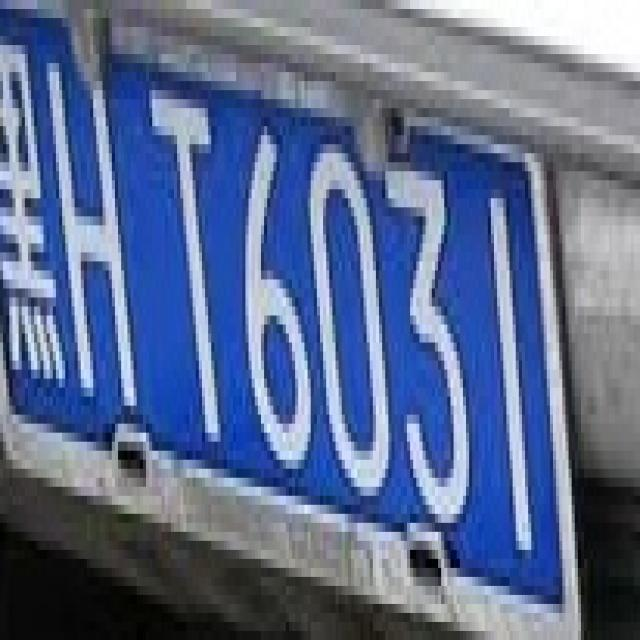licenseplate: (3, 0, 593, 640)
